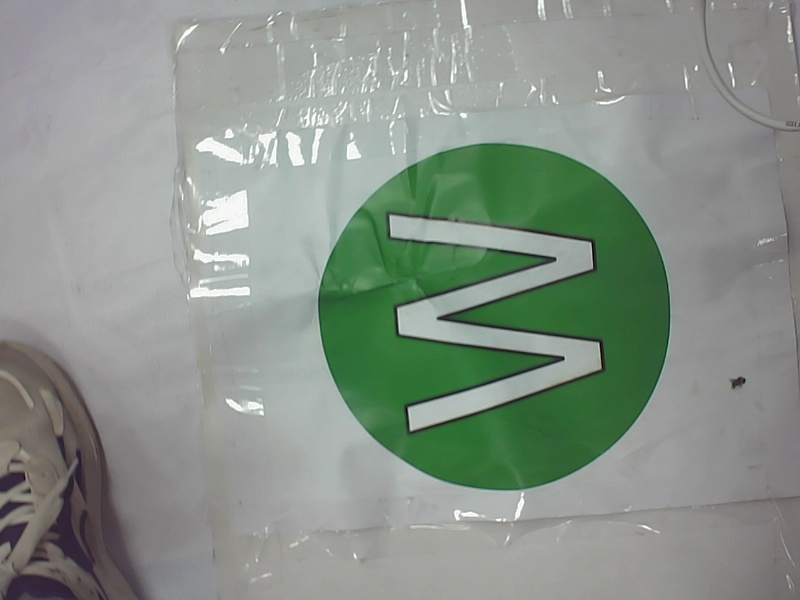areaB: (297, 144, 679, 498)
